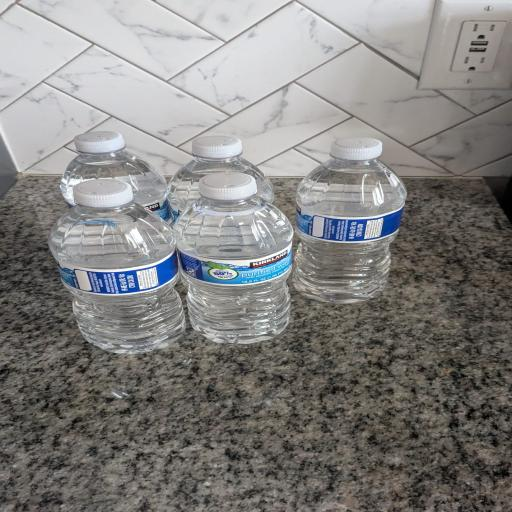waterbottle: (49, 180, 185, 353), (175, 173, 293, 343), (294, 138, 406, 303), (61, 132, 170, 220), (168, 136, 273, 220)
